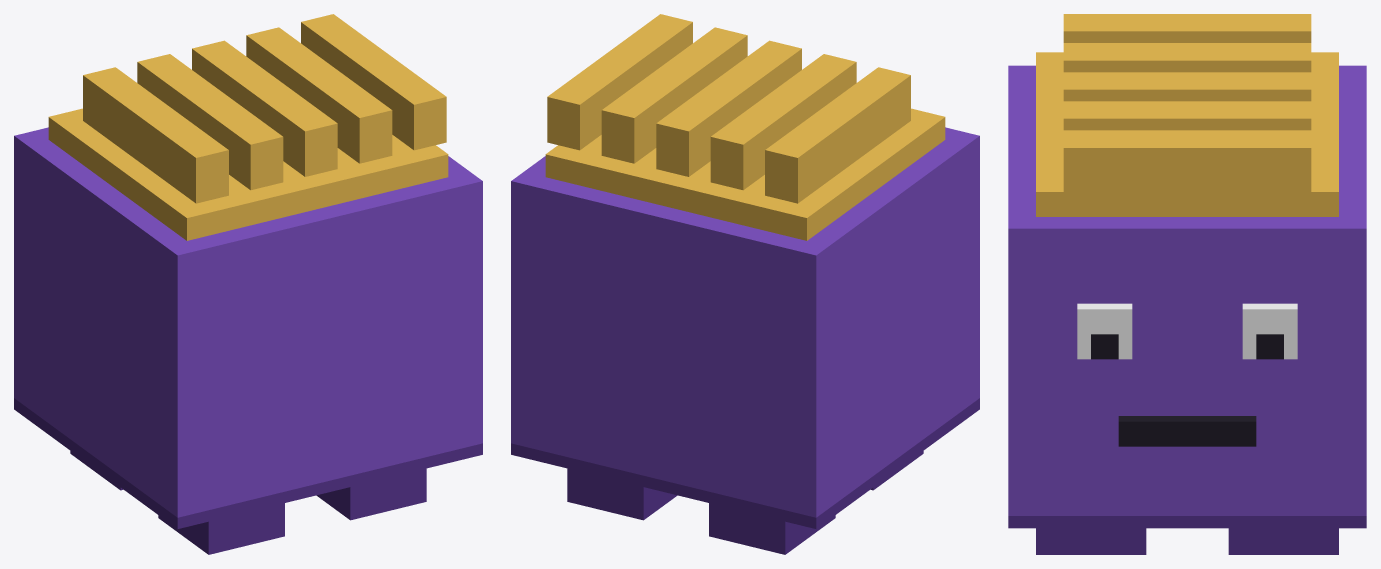
Rendered from enemy_boss.glb.
3 renders of one model, left to right at view 1: azimuth 30°, elevation 25°; view 2: azimuth 150°, elevation 25°; view 3: azimuth 270°, elevation 25°, orthographic. The views are drawn at different scales.
Parts seen in each view (by area): view 1: model_0; view 2: model_0; view 3: model_0.
Part boxes in pixels (x1=…): model_0: x1=14, y1=14, x2=482, y2=554; model_0: x1=511, y1=14, x2=979, y2=554; model_0: x1=1008, y1=14, x2=1366, y2=554.
Bounding box in the file's own units: 1.16 × 1.36 × 1.04.
